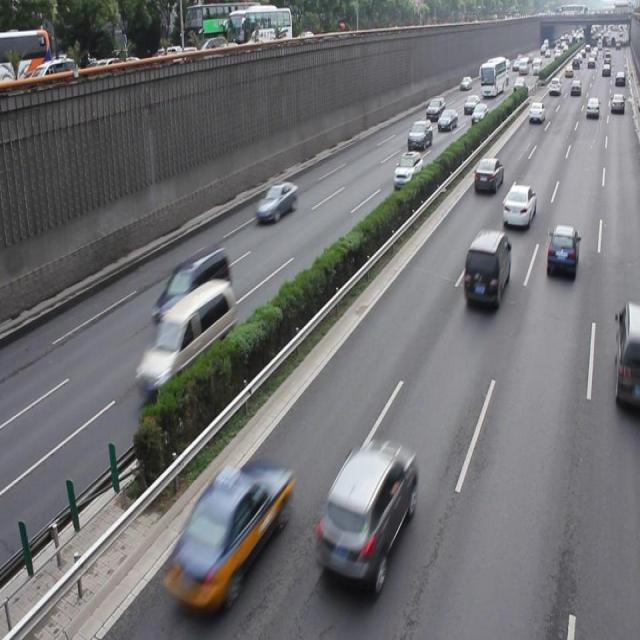car: (162, 460, 290, 634), (313, 437, 417, 593), (612, 304, 640, 413), (254, 180, 297, 224), (545, 223, 578, 280), (500, 183, 536, 229), (471, 156, 503, 194), (392, 150, 422, 190)
truck: (134, 279, 235, 399), (150, 245, 230, 330), (462, 230, 509, 308)
